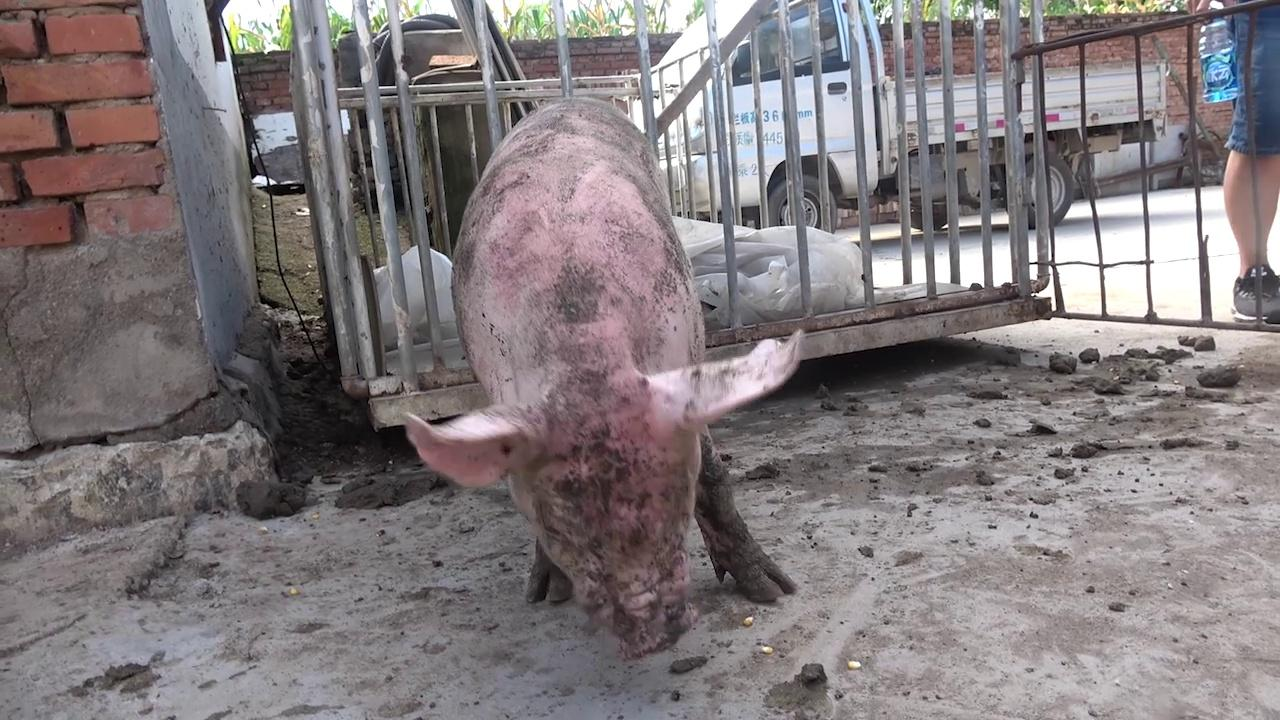Face: (400, 325, 805, 662)
